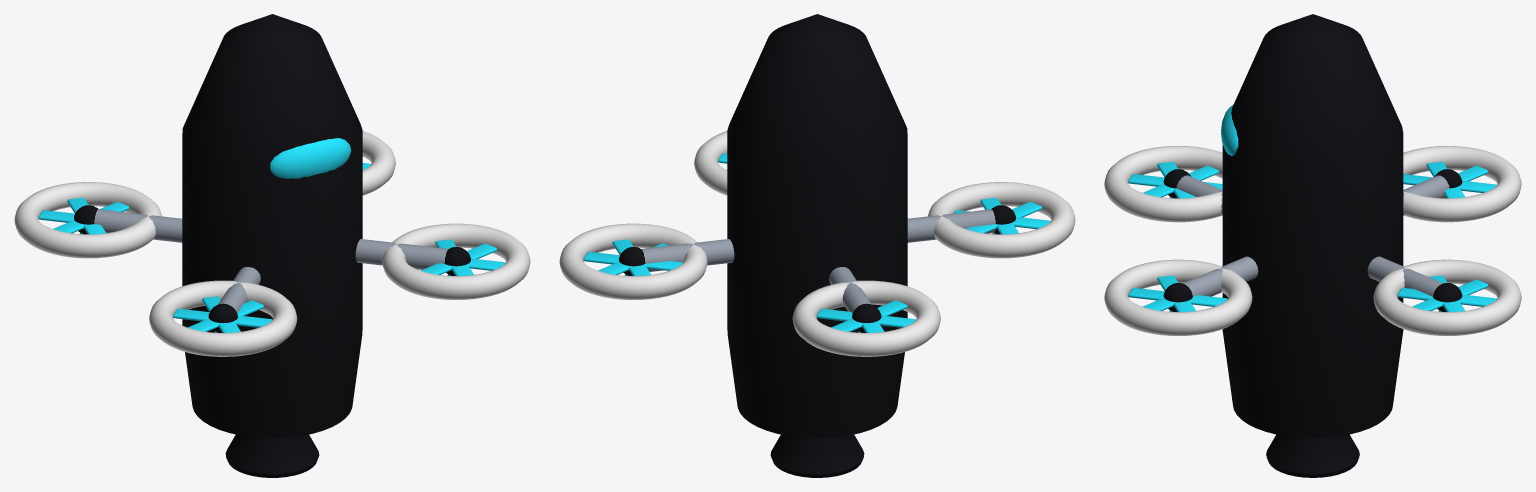
The model's file is Rocket_18_DroneRocket.obj.
3 views of the same model, side by side, from view 1: azimuth 30°, elevation 25°; view 2: azimuth 150°, elevation 25°; view 3: azimuth 270°, elevation 25° (orthographic).
Parts seen in each view (by area): view 1: R18_Body, R18_Duct_2, R18_Duct_4, R18_Duct_3, R18_Nozzle, R18_Eye, R18_Arm_4, R18_Arm_2, R18_Duct, R18_Arm_3, R18_Prop_9, R18_Prop_10; view 2: R18_Body, R18_Duct_3, R18_Duct, R18_Duct_2, R18_Nozzle, R18_Arm, R18_Duct_4, R18_Arm_3, R18_Arm_2, R18_Prop_4, R18_Prop, R18_Prop_5; view 3: R18_Body, R18_Duct_4, R18_Duct, R18_Duct_2, R18_Duct_3, R18_Nozzle, R18_Arm_4, R18_Arm, R18_Arm_2, R18_Prop_11, R18_Prop_2, R18_Arm_3 (+6 smaller).
Part boxes in pixels (box(x1,y1,x2,y2)): R18_Body: box(182, 14, 362, 438); R18_Duct_2: box(14, 182, 161, 258); R18_Duct_4: box(382, 223, 530, 299); R18_Duct_3: box(149, 280, 297, 356); R18_Nozzle: box(225, 434, 319, 477); R18_Eye: box(270, 138, 351, 178); R18_Arm_4: box(355, 239, 448, 269); R18_Arm_2: box(94, 209, 182, 242); R18_Duct: box(362, 131, 395, 195); R18_Arm_3: box(218, 267, 260, 313); R18_Prop_9: box(173, 308, 272, 327); R18_Prop_10: box(421, 243, 497, 274); R18_Body: box(727, 14, 907, 438); R18_Duct_3: box(928, 182, 1075, 258); R18_Duct: box(559, 223, 707, 299); R18_Duct_2: box(792, 280, 940, 356); R18_Nozzle: box(770, 434, 864, 477); R18_Arm: box(641, 239, 734, 271); R18_Duct_4: box(694, 131, 727, 195); R18_Arm_3: box(907, 209, 995, 242); R18_Arm_2: box(829, 267, 871, 313); R18_Prop_4: box(816, 308, 915, 327); R18_Prop: box(583, 251, 682, 270); R18_Prop_5: box(831, 300, 907, 331); R18_Body: box(1222, 14, 1403, 438); R18_Duct_4: box(1104, 259, 1252, 335); R18_Duct: box(1373, 259, 1521, 335); R18_Duct_2: box(1403, 146, 1521, 222); R18_Duct_3: box(1104, 146, 1222, 222); R18_Nozzle: box(1266, 434, 1359, 477); R18_Arm_4: box(1183, 256, 1258, 296); R18_Arm: box(1367, 256, 1442, 300); R18_Arm_2: box(1403, 175, 1449, 215); R18_Prop_11: box(1128, 288, 1227, 306); R18_Prop_2: box(1397, 287, 1496, 306); R18_Arm_3: box(1176, 175, 1222, 215).
Bounding box in the file's own units: 4.17 × 4.9 × 4.17.
